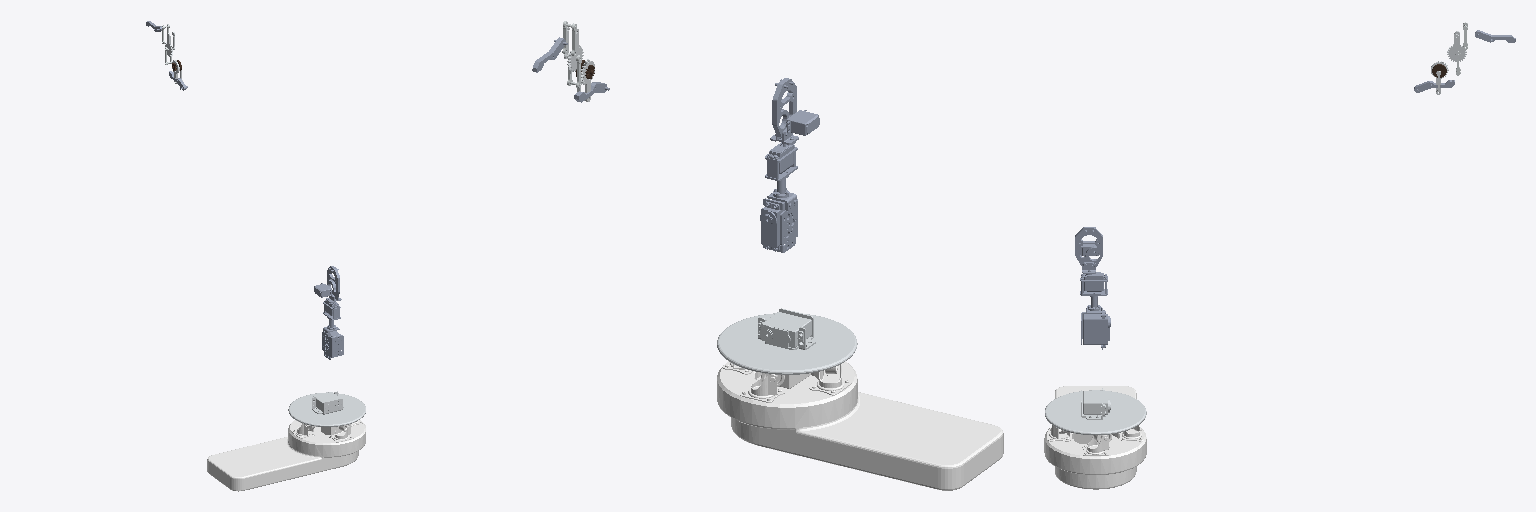
The robot description file, URDF, robot "ahman_robot_arm_description":
<?xml version="1.0" encoding="utf-8"?>
<!-- This URDF was automatically created by SolidWorks to URDF Exporter! Originally created by [author] ([email redacted]) 
     Commit Version: 1.6.0-1-g15f4949  Build Version: 1.6.7594.29634
     For more information, please see http://wiki.ros.org/sw_urdf_exporter -->
<robot
  name="ahman_robot_arm_description">
  <link
    name="base_link">
    <inertial>
      <origin
        xyz="-0.0621296478374961 -0.000197013108224509 0.0262458650036686"
        rpy="0 0 0" />
      <mass
        value="1.57548174222026" />
      <inertia
        ixx="0.00228921323959943"
        ixy="-1.89613899616038E-07"
        ixz="-0.000914717756802455"
        iyy="0.0111783484880427"
        iyz="-9.28094744189398E-08"
        izz="0.0126774912847455" />
    </inertial>
    <visual>
      <origin
        xyz="0 0 0"
        rpy="0 0 0" />
      <geometry>
        <mesh
          filename="package://ahman_robot_arm_description/meshes/base_link.STL" />
      </geometry>
      <material
        name="">
        <color
          rgba="1 1 1 1" />
      </material>
    </visual>
    <collision>
      <origin
        xyz="0 0 0"
        rpy="0 0 0" />
      <geometry>
        <mesh
          filename="package://ahman_robot_arm_description/meshes/base_link.STL" />
      </geometry>
    </collision>
  </link>
  <link
    name="shoulder_link">
    <inertial>
      <origin
        xyz="0.000282603902537829 1.44505199131673E-05 0.0112110401977242"
        rpy="0 0 0" />
      <mass
        value="0.12558913401628" />
      <inertia
        ixx="0.00012714430786896"
        ixy="-9.26769562100987E-08"
        ixz="5.79420738002533E-15"
        iyy="0.000128437631153157"
        iyz="1.78900511672797E-07"
        izz="0.000252635335314004" />
    </inertial>
    <visual>
      <origin
        xyz="0 0 0"
        rpy="0 0 0" />
      <geometry>
        <mesh
          filename="package://ahman_robot_arm_description/meshes/shoulder_link.STL" />
      </geometry>
      <material
        name="">
        <color
          rgba="0.894117647058823 0.913725490196078 0.929411764705882 1" />
      </material>
    </visual>
    <collision>
      <origin
        xyz="0 0 0"
        rpy="0 0 0" />
      <geometry>
        <mesh
          filename="package://ahman_robot_arm_description/meshes/shoulder_link.STL" />
      </geometry>
    </collision>
  </link>
  <joint
    name="shoulder_joint"
    type="revolute">
    <origin
      xyz="0 0 0.0905"
      rpy="0 0 0" />
    <parent
      link="base_link" />
    <child
      link="shoulder_link" />
    <axis
      xyz="0 0 1" />
    <limit
      lower="-2.618"
      upper="2.618"
      effort="0"
      velocity="0" />
  </joint>
  <link
    name="bicep_link">
    <inertial>
      <origin
        xyz="-1.07646010161222E-09 0.00254632887372314 0.0671287671446354"
        rpy="0 0 0" />
      <mass
        value="0.0228631437999219" />
      <inertia
        ixx="2.39073149613632E-05"
        ixy="2.32866187605332E-13"
        ixz="1.28584632604654E-13"
        iyy="1.31818096379652E-05"
        iyz="9.63935414958932E-14"
        izz="1.29556718766971E-05" />
    </inertial>
    <visual>
      <origin
        xyz="0 0 0"
        rpy="0 0 0" />
      <geometry>
        <mesh
          filename="package://ahman_robot_arm_description/meshes/bicep_link.STL" />
      </geometry>
      <material
        name="">
        <color
          rgba="0.666666666666667 0.698039215686274 0.768627450980392 1" />
      </material>
    </visual>
    <collision>
      <origin
        xyz="0 0 0"
        rpy="0 0 0" />
      <geometry>
        <mesh
          filename="package://ahman_robot_arm_description/meshes/bicep_link.STL" />
      </geometry>
    </collision>
  </link>
  <joint
    name="bicep_joint"
    type="revolute">
    <origin
      xyz="0.011637 0.00030135 0.0232"
      rpy="0 0 0" />
    <parent
      link="shoulder_link" />
    <child
      link="bicep_link" />
    <axis
      xyz="0 -1 0" />
    <limit
      lower="-2.618"
      upper="2.618"
      effort="0"
      velocity="0" />
  </joint>
  <link
    name="elbow_link">
    <inertial>
      <origin
        xyz="-0.00185354151846942 -0.000935407374379416 0.0102619236268282"
        rpy="0 0 0" />
      <mass
        value="0.0548714607838969" />
      <inertia
        ixx="1.35412600787717E-05"
        ixy="1.68915939744945E-07"
        ixz="-2.05466079914059E-08"
        iyy="8.872576856175E-06"
        iyz="-8.96949891636742E-08"
        izz="8.07530038782251E-06" />
    </inertial>
    <visual>
      <origin
        xyz="0 0 0"
        rpy="0 0 0" />
      <geometry>
        <mesh
          filename="package://ahman_robot_arm_description/meshes/elbow_link.STL" />
      </geometry>
      <material
        name="">
        <color
          rgba="0.666666666666667 0.698039215686274 0.768627450980392 1" />
      </material>
    </visual>
    <collision>
      <origin
        xyz="0 0 0"
        rpy="0 0 0" />
      <geometry>
        <mesh
          filename="package://ahman_robot_arm_description/meshes/elbow_link.STL" />
      </geometry>
    </collision>
  </link>
  <joint
    name="elbow_joint"
    type="revolute">
    <origin
      xyz="0 0 0.135"
      rpy="0 0 0" />
    <parent
      link="bicep_link" />
    <child
      link="elbow_link" />
    <axis
      xyz="0 1 0" />
    <limit
      lower="-2.618"
      upper="2.618"
      effort="0"
      velocity="0" />
  </joint>
  <link
    name="wrist_link">
    <inertial>
      <origin
        xyz="-0.0110556086395542 0.000211230238021221 0.033198352764828"
        rpy="0 0 0" />
      <mass
        value="0.0215560015176652" />
      <inertia
        ixx="4.98645899014325E-06"
        ixy="-1.53565858408592E-08"
        ixz="-5.67433972481255E-10"
        iyy="3.56530485474667E-06"
        iyz="-6.51916422698559E-08"
        izz="2.64942430962807E-06" />
    </inertial>
    <visual>
      <origin
        xyz="0 0 0"
        rpy="0 0 0" />
      <geometry>
        <mesh
          filename="package://ahman_robot_arm_description/meshes/wrist_link.STL" />
      </geometry>
      <material
        name="">
        <color
          rgba="0.666666666666667 0.698039215686274 0.768627450980392 1" />
      </material>
    </visual>
    <collision>
      <origin
        xyz="0 0 0"
        rpy="0 0 0" />
      <geometry>
        <mesh
          filename="package://ahman_robot_arm_description/meshes/wrist_link.STL" />
      </geometry>
    </collision>
  </link>
  <joint
    name="wrist_joint"
    type="revolute">
    <origin
      xyz="-0.0030616 -0.0095697 0.078229"
      rpy="0 0 0" />
    <parent
      link="elbow_link" />
    <child
      link="wrist_link" />
    <axis
      xyz="0 0 -1" />
    <limit
      lower="-2.618"
      upper="2.618"
      effort="0"
      velocity="0" />
  </joint>
  <link
    name="gripper_power_link">
    <inertial>
      <origin
        xyz="-0.00299189792266995 4.87283713379583E-10 -6.82270240304206E-10"
        rpy="0 0 0" />
      <mass
        value="0.00250405869863455" />
      <inertia
        ixx="9.57060201376116E-08"
        ixy="-6.75092632909777E-15"
        ixz="9.45230874454392E-15"
        iyy="6.35955949295357E-08"
        iyz="-2.22068247712848E-15"
        izz="6.35955964527919E-08" />
    </inertial>
    <visual>
      <origin
        xyz="0 0 0"
        rpy="0 0 0" />
      <geometry>
        <mesh
          filename="package://ahman_robot_arm_description/meshes/gripper_power_link.STL" />
      </geometry>
      <material
        name="">
        <color
          rgba="0.317647058823529 0.247058823529412 0.207843137254902 1" />
      </material>
    </visual>
    <collision>
      <origin
        xyz="0 0 0"
        rpy="0 0 0" />
      <geometry>
        <mesh
          filename="package://ahman_robot_arm_description/meshes/gripper_power_link.STL" />
      </geometry>
    </collision>
  </link>
  <joint
    name="gripper_power_joint"
    type="revolute">
    <origin
      xyz="0.0013154 0.0075085 0.02978"
      rpy="0 0 -0.008706" />
    <parent
      link="wrist_link" />
    <child
      link="gripper_power_link" />
    <axis
      xyz="1 0 0" />
    <limit
      lower="-2.618"
      upper="2.618"
      effort="0"
      velocity="0" />
  </joint>
  <link
    name="right_gear_link">
    <inertial>
      <origin
        xyz="-0.00193086606490488 0.00665199997650162 0"
        rpy="0 0 0" />
      <mass
        value="0.00265775053226582" />
      <inertia
        ixx="4.32773768952486E-07"
        ixy="8.6957361894637E-23"
        ixz="-1.04864559343279E-23"
        iyy="8.34336695921308E-08"
        iyz="-3.51728516490222E-22"
        izz="3.57982565471374E-07" />
    </inertial>
    <visual>
      <origin
        xyz="0 0 0"
        rpy="0 0 0" />
      <geometry>
        <mesh
          filename="package://ahman_robot_arm_description/meshes/right_gear_link.STL" />
      </geometry>
      <material
        name="">
        <color
          rgba="0.894117647058823 0.913725490196078 0.929411764705882 1" />
      </material>
    </visual>
    <collision>
      <origin
        xyz="0 0 0"
        rpy="0 0 0" />
      <geometry>
        <mesh
          filename="package://ahman_robot_arm_description/meshes/right_gear_link.STL" />
      </geometry>
    </collision>
  </link>
  <joint
    name="right_gear_joint"
    type="continuous">
    <origin
      xyz="0.00425 0.0059803 0.019825"
      rpy="0 0 0" />
    <parent
      link="gripper_power_link" />
    <child
      link="right_gear_link" />
    <axis
      xyz="1 0 0" />
  </joint>
  <link
    name="right_finger_link">
    <inertial>
      <origin
        xyz="-2.08166817117217E-17 -0.00495816296253876 0.0222920054918524"
        rpy="0 0 0" />
      <mass
        value="0.00296891525111355" />
      <inertia
        ixx="9.24608677627611E-07"
        ixy="-2.48154183765908E-23"
        ixz="4.20214162821715E-22"
        iyy="8.87593583276421E-07"
        iyz="1.18086134887375E-07"
        izz="4.61243075404796E-08" />
    </inertial>
    <visual>
      <origin
        xyz="0 0 0"
        rpy="0 0 0" />
      <geometry>
        <mesh
          filename="package://ahman_robot_arm_description/meshes/right_finger_link.STL" />
      </geometry>
      <material
        name="">
        <color
          rgba="0.666666666666667 0.698039215686274 0.768627450980392 1" />
      </material>
    </visual>
    <collision>
      <origin
        xyz="0 0 0"
        rpy="0 0 0" />
      <geometry>
        <mesh
          filename="package://ahman_robot_arm_description/meshes/right_finger_link.STL" />
      </geometry>
    </collision>
  </link>
  <joint
    name="right_finger_joint"
    type="continuous">
    <origin
      xyz="-0.00550000000000002 0.0309999999999999 0"
      rpy="0 0 0" />
    <parent
      link="right_gear_link" />
    <child
      link="right_finger_link" />
    <axis
      xyz="1 0 0" />
  </joint>
  <link
    name="left_gear_link">
    <inertial>
      <origin
        xyz="-0.00206477938876969 -0.00712705692013643 0.000470998597776329"
        rpy="0 0 0" />
      <mass
        value="0.00248537947426595" />
      <inertia
        ixx="4.0136467834394E-07"
        ixy="-1.57681304267921E-23"
        ixz="-2.31373731218934E-23"
        iyy="6.99862270448919E-08"
        iyz="-7.20770201979305E-09"
        izz="3.39762360823067E-07" />
    </inertial>
    <visual>
      <origin
        xyz="0 0 0"
        rpy="0 0 0" />
      <geometry>
        <mesh
          filename="package://ahman_robot_arm_description/meshes/left_gear_link.STL" />
      </geometry>
      <material
        name="">
        <color
          rgba="0.894117647058823 0.913725490196078 0.929411764705882 1" />
      </material>
    </visual>
    <collision>
      <origin
        xyz="0 0 0"
        rpy="0 0 0" />
      <geometry>
        <mesh
          filename="package://ahman_robot_arm_description/meshes/left_gear_link.STL" />
      </geometry>
    </collision>
  </link>
  <joint
    name="left_gear_joint"
    type="continuous">
    <origin
      xyz="0.00424999999999987 -0.0210196797413557 0.0198250616521198"
      rpy="0 0 0" />
    <parent
      link="gripper_power_link" />
    <child
      link="left_gear_link" />
    <axis
      xyz="1 0 0" />
  </joint>
  <link
    name="left_finger_link">
    <inertial>
      <origin
        xyz="-9.71445146547012E-17 0.00495816296253726 0.022292005491854"
        rpy="0 0 0" />
      <mass
        value="0.00296891525111356" />
      <inertia
        ixx="9.24608677627618E-07"
        ixy="9.0989867380833E-24"
        ixz="8.21040874406667E-23"
        iyy="8.87593583276427E-07"
        iyz="-1.18086134887379E-07"
        izz="4.61243075404806E-08" />
    </inertial>
    <visual>
      <origin
        xyz="0 0 0"
        rpy="0 0 0" />
      <geometry>
        <mesh
          filename="package://ahman_robot_arm_description/meshes/left_finger_link.STL" />
      </geometry>
      <material
        name="">
        <color
          rgba="0.666666666666667 0.698039215686274 0.768627450980392 1" />
      </material>
    </visual>
    <collision>
      <origin
        xyz="0 0 0"
        rpy="0 0 0" />
      <geometry>
        <mesh
          filename="package://ahman_robot_arm_description/meshes/left_finger_link.STL" />
      </geometry>
    </collision>
  </link>
  <joint
    name="left_finger_joint"
    type="continuous">
    <origin
      xyz="-0.00549999999999974 -0.0309999999999988 0"
      rpy="0 0 0" />
    <parent
      link="left_gear_link" />
    <child
      link="left_finger_link" />
    <axis
      xyz="1 0 0" />
  </joint>
  <link
    name="right_knuckle_link">
    <inertial>
      <origin
        xyz="-2.77555756156289E-17 0.0173787993335969 0"
        rpy="0 0 0" />
      <mass
        value="0.000933047329406333" />
      <inertia
        ixx="1.16126442123931E-07"
        ixy="2.25245158207311E-23"
        ixz="-3.90387807891087E-25"
        iyy="4.80779497694863E-09"
        iyz="1.15442274314176E-21"
        izz="1.17374058453712E-07" />
    </inertial>
    <visual>
      <origin
        xyz="0 0 0"
        rpy="0 0 0" />
      <geometry>
        <mesh
          filename="package://ahman_robot_arm_description/meshes/right_knuckle_link.STL" />
      </geometry>
      <material
        name="">
        <color
          rgba="0.898039215686275 0.92156862745098 0.929411764705882 1" />
      </material>
    </visual>
    <collision>
      <origin
        xyz="0 0 0"
        rpy="0 0 0" />
      <geometry>
        <mesh
          filename="package://ahman_robot_arm_description/meshes/right_knuckle_link.STL" />
      </geometry>
    </collision>
  </link>
  <joint
    name="right_knuckle_joint"
    type="continuous">
    <origin
      xyz="4.57059260836959E-05 0.00524980104083161 0.0699998597650424"
      rpy="0 0 -0.00870600054853568" />
    <parent
      link="wrist_link" />
    <child
      link="right_knuckle_link" />
    <axis
      xyz="1 0 0" />
  </joint>
  <link
    name="left_knuckle_link">
    <inertial>
      <origin
        xyz="-3.46944695195361E-17 -0.0173787993335969 -3.33066907387547E-16"
        rpy="0 0 0" />
      <mass
        value="0.000933047329406329" />
      <inertia
        ixx="1.16126442123931E-07"
        ixy="-2.33613899560875E-24"
        ixz="7.93899145342149E-25"
        iyy="4.80779497694861E-09"
        iyz="1.42199126179906E-22"
        izz="1.17374058453712E-07" />
    </inertial>
    <visual>
      <origin
        xyz="0 0 0"
        rpy="0 0 0" />
      <geometry>
        <mesh
          filename="package://ahman_robot_arm_description/meshes/left_knuckle_link.STL" />
      </geometry>
      <material
        name="">
        <color
          rgba="0.898039215686275 0.92156862745098 0.929411764705882 1" />
      </material>
    </visual>
    <collision>
      <origin
        xyz="0 0 0"
        rpy="0 0 0" />
      <geometry>
        <mesh
          filename="package://ahman_robot_arm_description/meshes/left_knuckle_link.STL" />
      </geometry>
    </collision>
  </link>
  <joint
    name="left_knuckle_joint"
    type="continuous">
    <origin
      xyz="-4.5705924913951E-05 -0.00524980104084261 0.0699998597650426"
      rpy="0 0 -0.00870600054853568" />
    <parent
      link="wrist_link" />
    <child
      link="left_knuckle_link" />
    <axis
      xyz="1 0 0" />
  </joint>
</robot>

--- Render facts (derived) ---
The picture shows the robot from 3 angles, left to right: view 1: azimuth 30°, elevation 25°; view 2: azimuth 150°, elevation 25°; view 3: azimuth 270°, elevation 25°; orthographic projection.
Model ahman_robot_arm_description with 12 links and 11 joints (5 revolute, 6 continuous), rooted at base_link, posed all joints at 0.
Visible links, largest first — view 1: base_link, shoulder_link, elbow_link, wrist_link; view 2: base_link, shoulder_link, elbow_link, wrist_link; view 3: base_link, shoulder_link, elbow_link, wrist_link.
Link boxes in pixels (<box>): base_link: <box>207,420,365,491</box>; shoulder_link: <box>288,391,365,426</box>; elbow_link: <box>322,300,343,359</box>; wrist_link: <box>314,266,341,302</box>; base_link: <box>717,361,1003,490</box>; shoulder_link: <box>717,308,857,374</box>; elbow_link: <box>760,142,797,252</box>; wrist_link: <box>770,78,819,144</box>; base_link: <box>1044,386,1146,489</box>; shoulder_link: <box>1045,388,1146,434</box>; elbow_link: <box>1080,272,1110,349</box>; wrist_link: <box>1075,227,1102,274</box>.
Size in the robot's own frame: 0.315 by 0.6906 by 0.7044 metres.
11 mesh visuals loaded from 12 distinct referenced files (11 binary STL); not drawn: 1 (reference not matched to a file when rendering).
